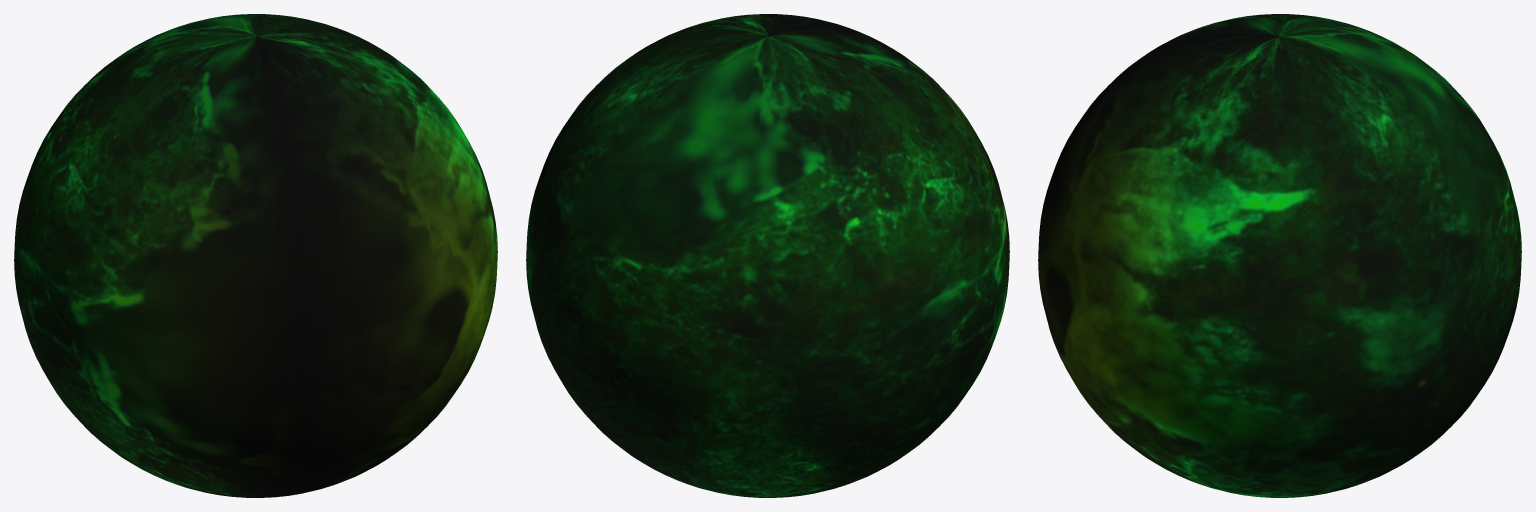
File: algae.gltf
The picture shows the model from 3 angles, left to right: view 1: azimuth 30°, elevation 25°; view 2: azimuth 150°, elevation 25°; view 3: azimuth 270°, elevation 25°; orthographic projection.
Parts seen in each view (by area): view 1: Sphere_1; view 2: Sphere_1; view 3: Sphere_1.
Part boxes in pixels (box(x1,y1,x2,y2)): Sphere_1: box(14, 14, 497, 497); Sphere_1: box(526, 14, 1009, 497); Sphere_1: box(1038, 14, 1521, 497).
Bounding box in the file's own units: 0.1998 × 0.2 × 0.1998.
1 material, 1 textured.
